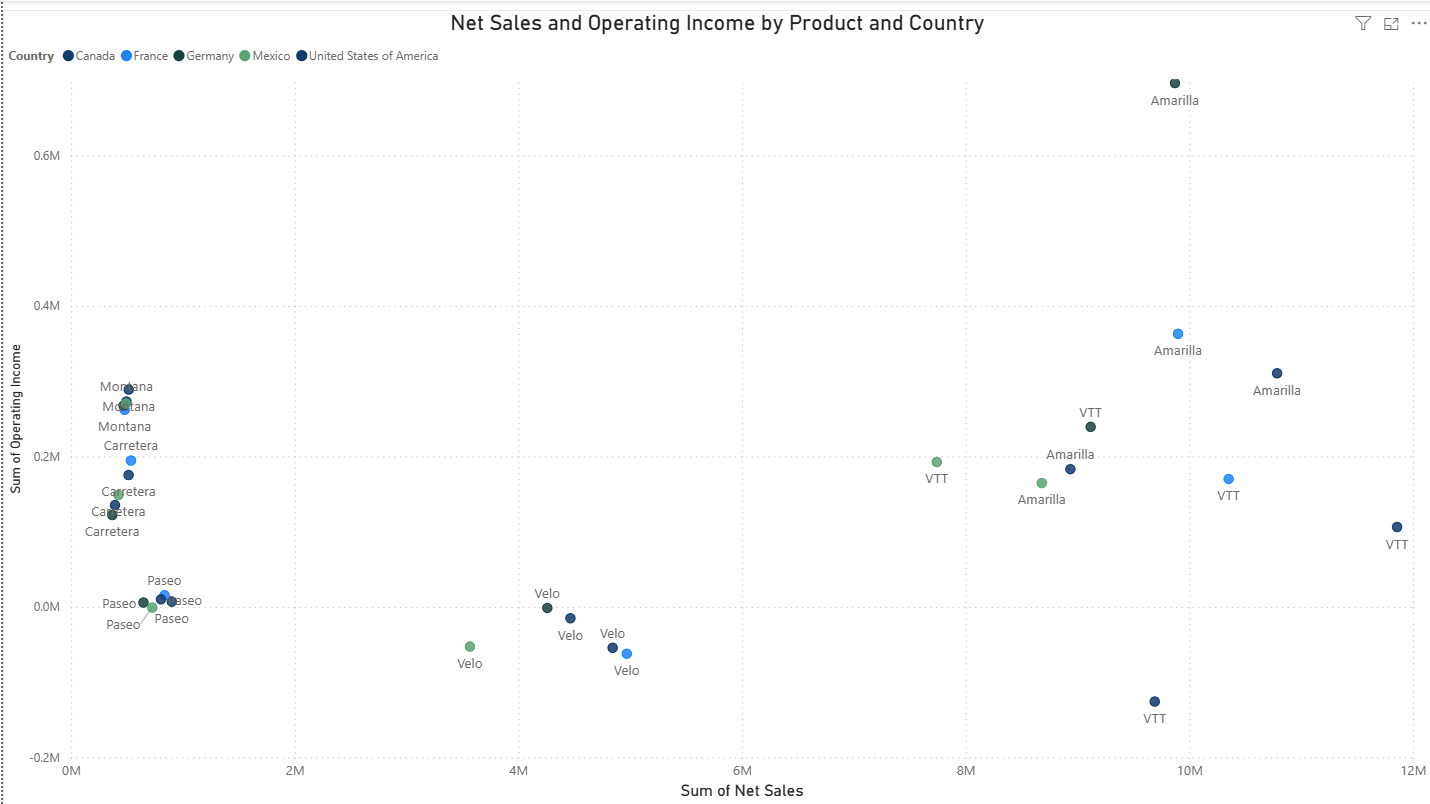

What the dashboard file says about the page in this screenshot:
{"tool":"powerbi","page":{"name":" 1 scatter chart","canvas":[1280,720],"ordinal":1},"visuals":[{"type":"scatterChart","title":"Net Sales and Operating Income by Product and Country","fields":{"X":["Sum(Financial Data.Net Sales)"],"Y":["Sum(Financial Data.Operating Income)"],"Series":["Financial Data.Country"],"Category":["Financial Data.Product"]},"box":[0,8.1,1279.7,711.9],"z":0}]}

Visuals, with their boxes in screenshot pixels (x1, y1, x2, y2), scaled from the page's 1280x720 canvas onto the 1430x804 screenshot:
"Net Sales and Operating Income by Product and Country" scatterChart: 0,9,1429,803
